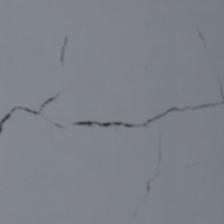Crack: (0, 79, 65, 145), (37, 127, 79, 158)
